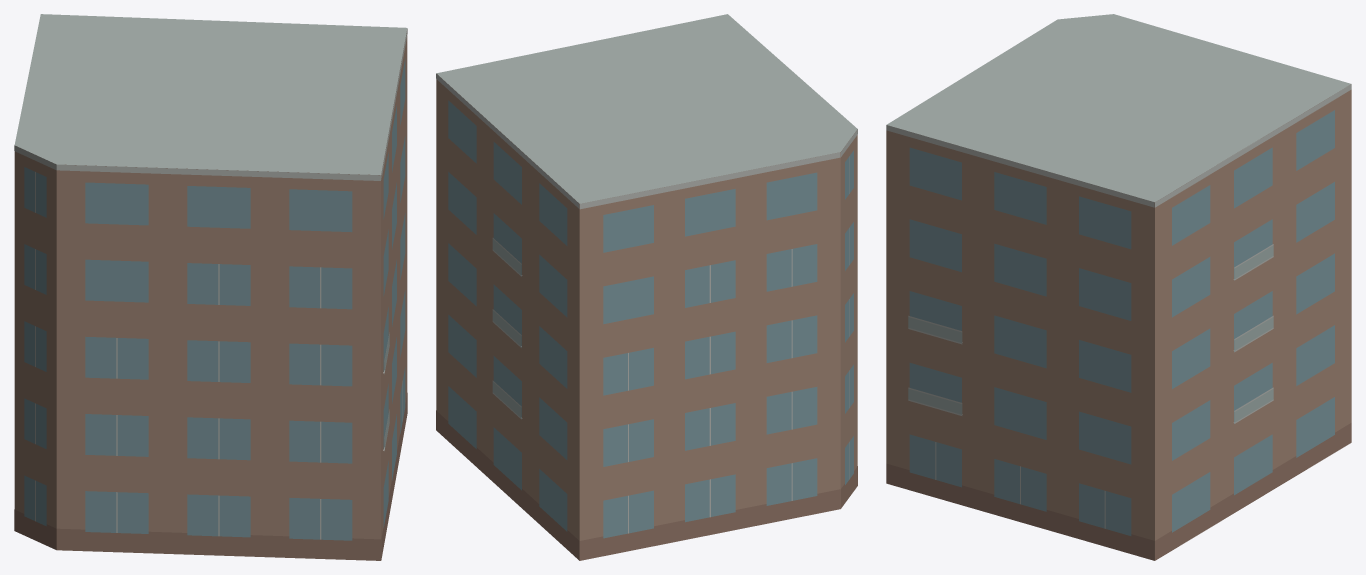
Rendered from survey-upis-32776635.glb.
3 views of the same model, side by side, from view 1: azimuth 30°, elevation 25°; view 2: azimuth 150°, elevation 25°; view 3: azimuth 270°, elevation 25° (orthographic). The views are drawn at different scales.
Parts seen in each view (by area): view 1: survey-upis-32776635.tmp; view 2: survey-upis-32776635.tmp; view 3: survey-upis-32776635.tmp.
Boxes of the visible parts, x1=… form: survey-upis-32776635.tmp: x1=14, y1=14, x2=407, y2=560; survey-upis-32776635.tmp: x1=436, y1=14, x2=857, y2=560; survey-upis-32776635.tmp: x1=886, y1=14, x2=1351, y2=560.
Bounding box in the file's own units: 17.91 × 15.9 × 18.7.
